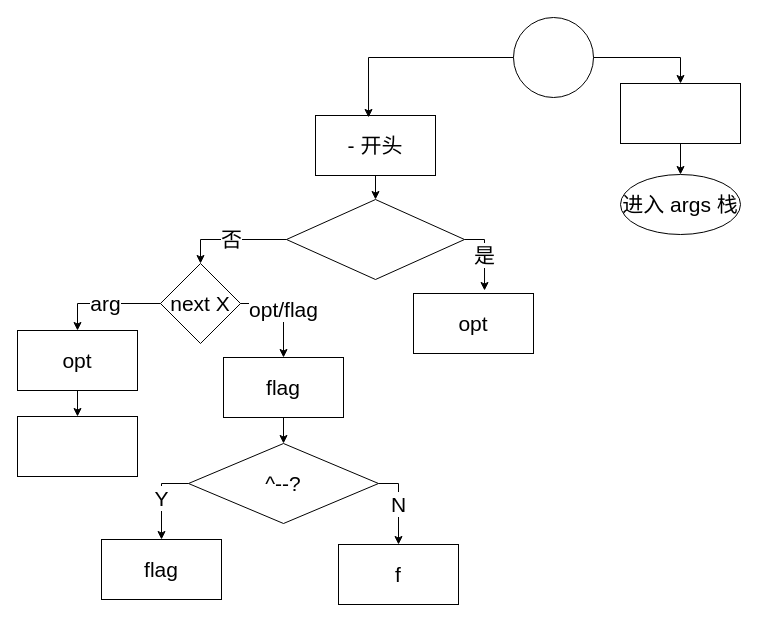
The diagram is 758 pixels wide and 622 high, and some of its shapes have lost their labels. Each missing label, with the centre of its shape:
X=arg: (77,446)
参数 X: (553,57)
字母开头: (680,113)
是等式？: (375,239)
